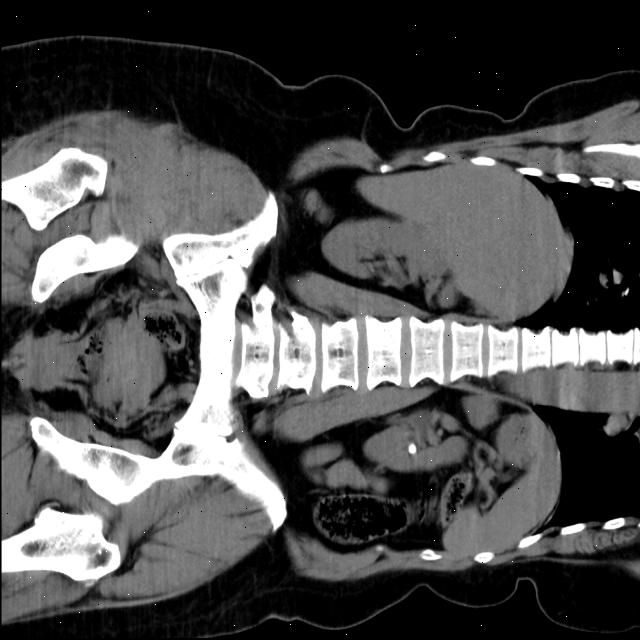kidneystone: (406, 442, 416, 459)
